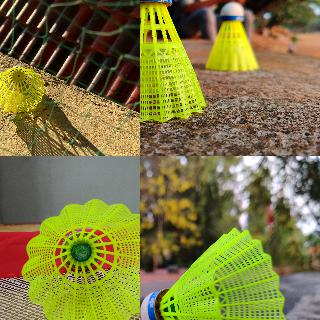shuttlecock: (21, 198, 139, 319), (140, 227, 285, 319), (140, 0, 207, 122), (206, 1, 260, 72), (0, 65, 45, 114)
